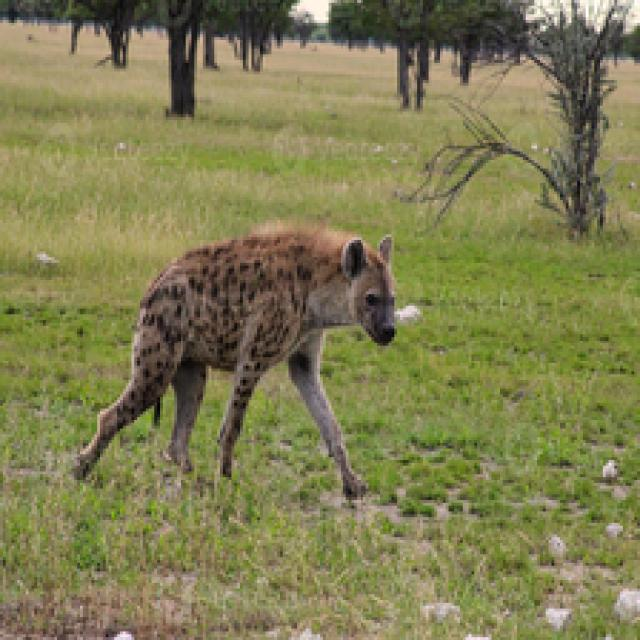hyena: (72, 205, 401, 512)
